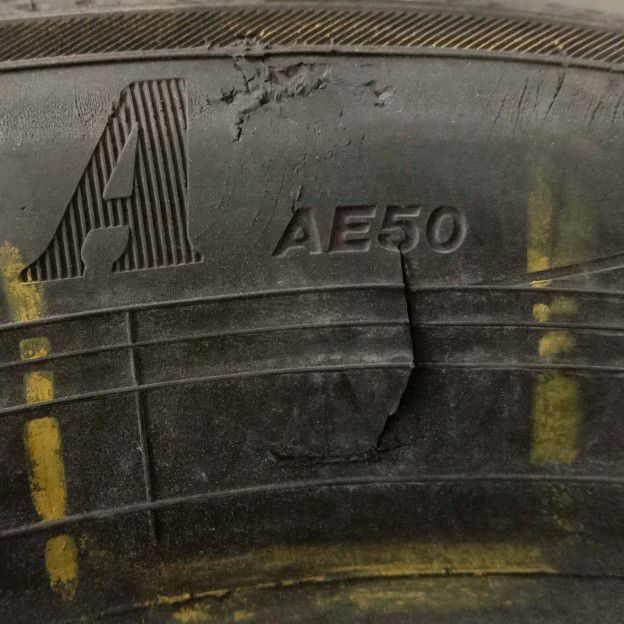cut: (371, 236, 427, 457)
